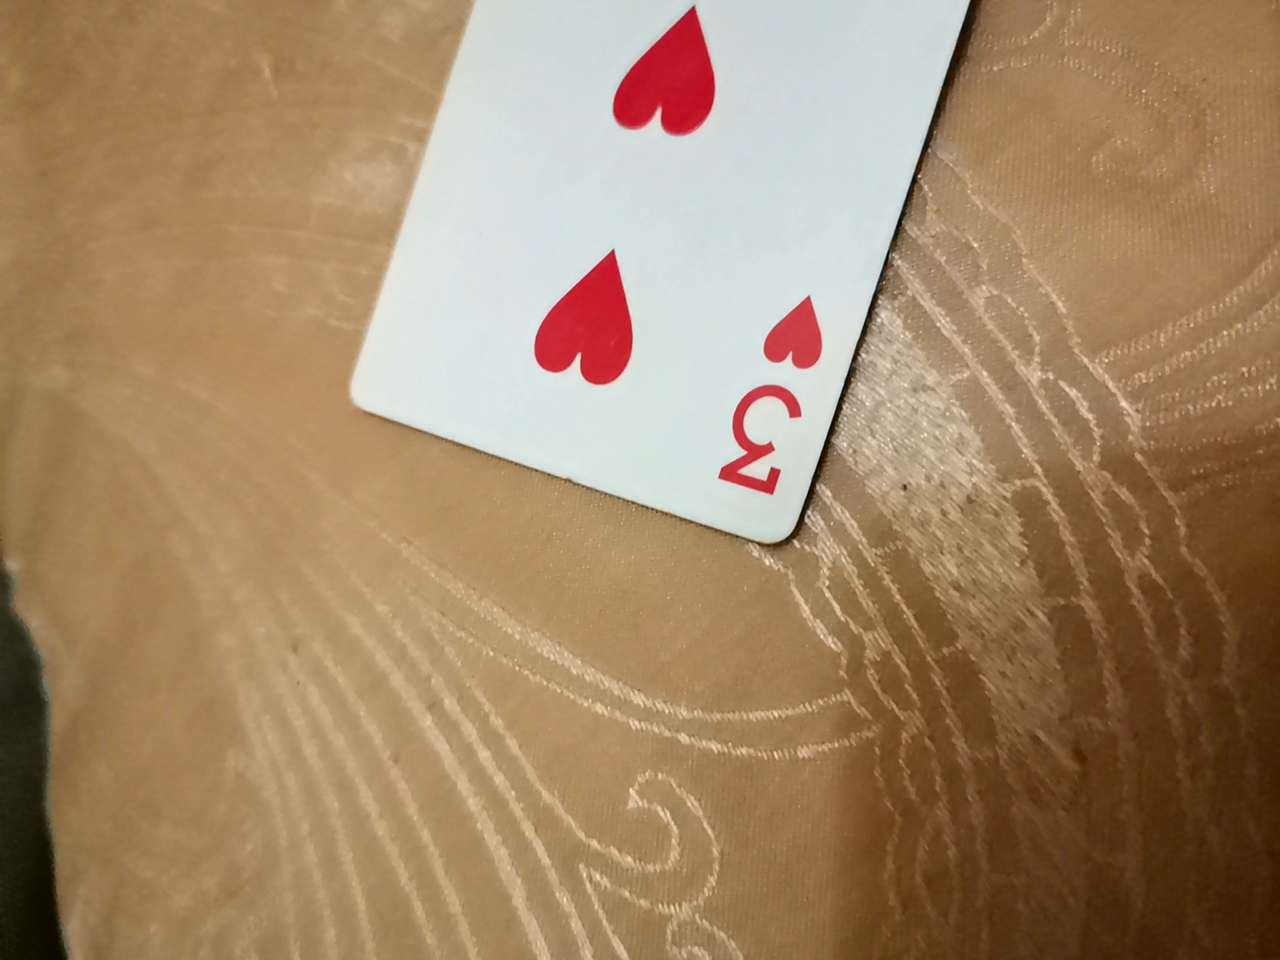hx 3: (331, 0, 1036, 565)
